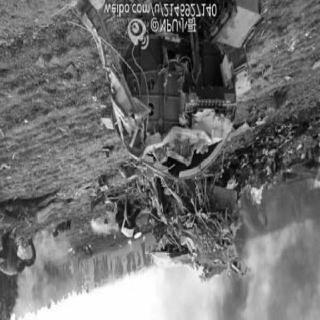Fire: (234, 158, 280, 218), (276, 111, 320, 166)
